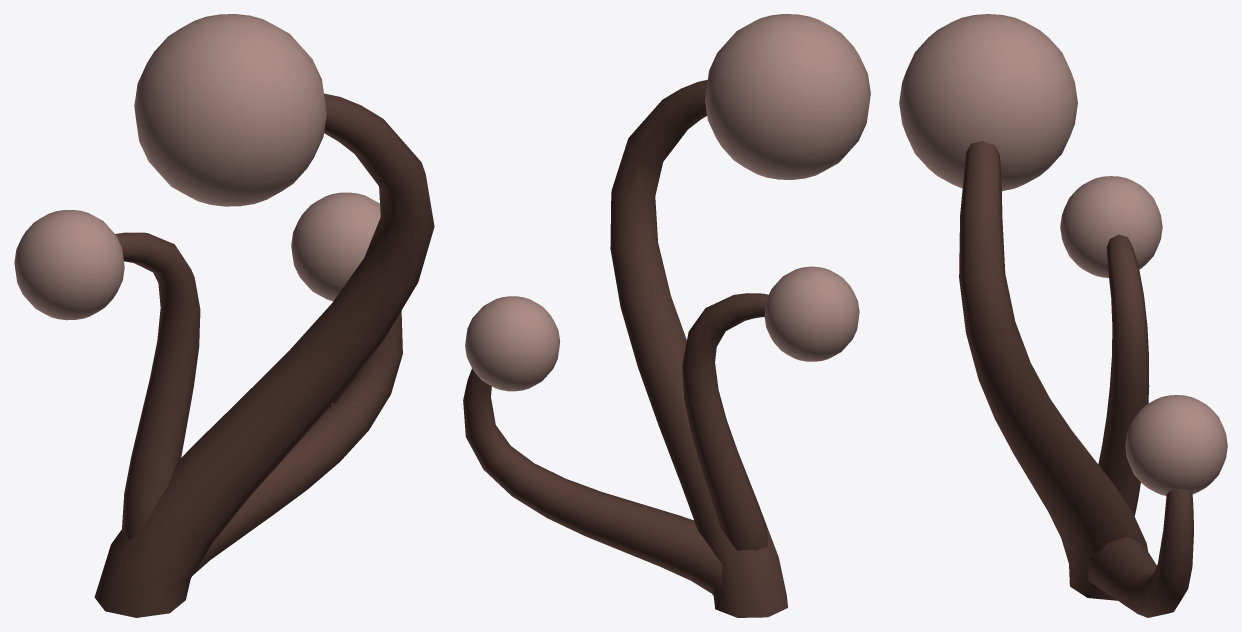
The model's file is n_tree_light_1.glb.
3 views of the same model, side by side, from view 1: azimuth 30°, elevation 25°; view 2: azimuth 150°, elevation 25°; view 3: azimuth 270°, elevation 25° (orthographic). The views are drawn at different scales.
Parts seen in each view (by area): view 1: Tree_Light_1; view 2: Tree_Light_1; view 3: Tree_Light_1.
Part boxes in pixels (left/top/right/bottom): Tree_Light_1: left=14, top=14, right=434, bottom=617; Tree_Light_1: left=463, top=14, right=870, bottom=617; Tree_Light_1: left=899, top=14, right=1227, bottom=617.
Bounding box in the file's own units: 2.63 × 3.76 × 1.96.
1 material, 1 textured.
